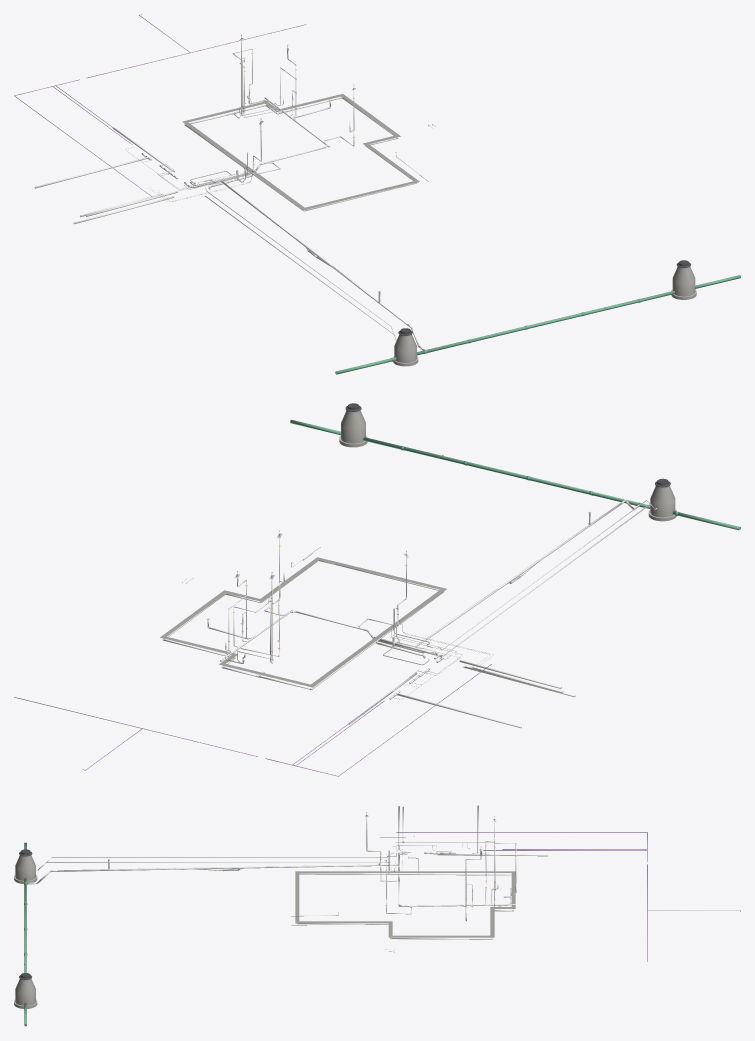
File: pipes_dwv.glb
3 views of the same model, one above another, from view 1: azimuth 30°, elevation 25°; view 2: azimuth 150°, elevation 25°; view 3: azimuth 270°, elevation 25° (orthographic). The views are drawn at different scales.
Parts seen in each view (by area): view 1: gravel_sump_tile, pipe_dwv_city_main, manhole_city_east, manhole_city_west; view 2: gravel_sump_tile, pipe_dwv_city_main, manhole_city_east, manhole_city_west; view 3: gravel_sump_tile, pipe_dwv_sewer_city, manhole_city_east, manhole_city_west, pipe_dwv_sewer_city_belly, pipe_sump_tile_a, pipe_sump_tile_b, pipe_dwv_city_main.
Boxes of the visible parts, x1,y1,x2,y2 form: gravel_sump_tile: (182, 94, 419, 210); pipe_dwv_city_main: (335, 275, 740, 374); manhole_city_east: (671, 267, 696, 299); manhole_city_west: (393, 334, 418, 366); gravel_sump_tile: (160, 557, 446, 687); pipe_dwv_city_main: (290, 419, 740, 530); manhole_city_east: (339, 410, 367, 447); manhole_city_west: (648, 486, 676, 521); gravel_sump_tile: (295, 871, 515, 937); pipe_dwv_sewer_city: (29, 864, 399, 884); manhole_city_east: (14, 978, 37, 1008); manhole_city_west: (14, 855, 37, 883); pipe_dwv_sewer_city_belly: (58, 864, 397, 871); pipe_sump_tile_a: (297, 909, 514, 939); pipe_sump_tile_b: (299, 873, 511, 875); pipe_dwv_city_main: (24, 842, 27, 1026).
Size of the model in its own units: 34.77 by 8.37 by 52.21.
